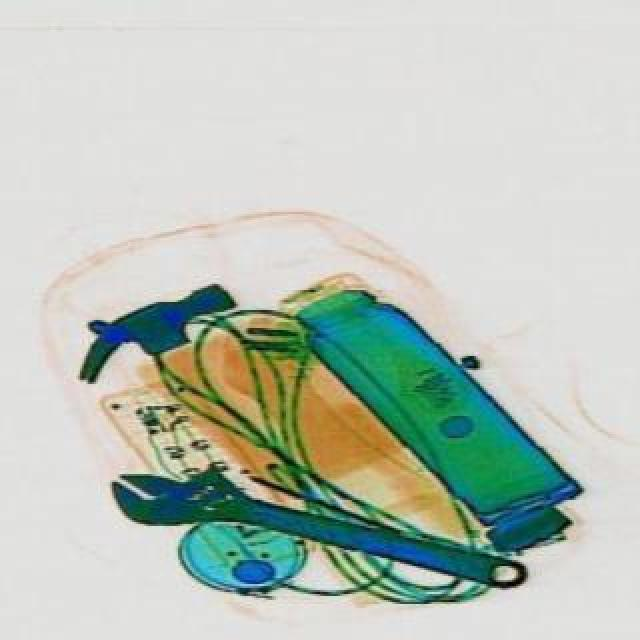scissors: (98, 446, 528, 610)
